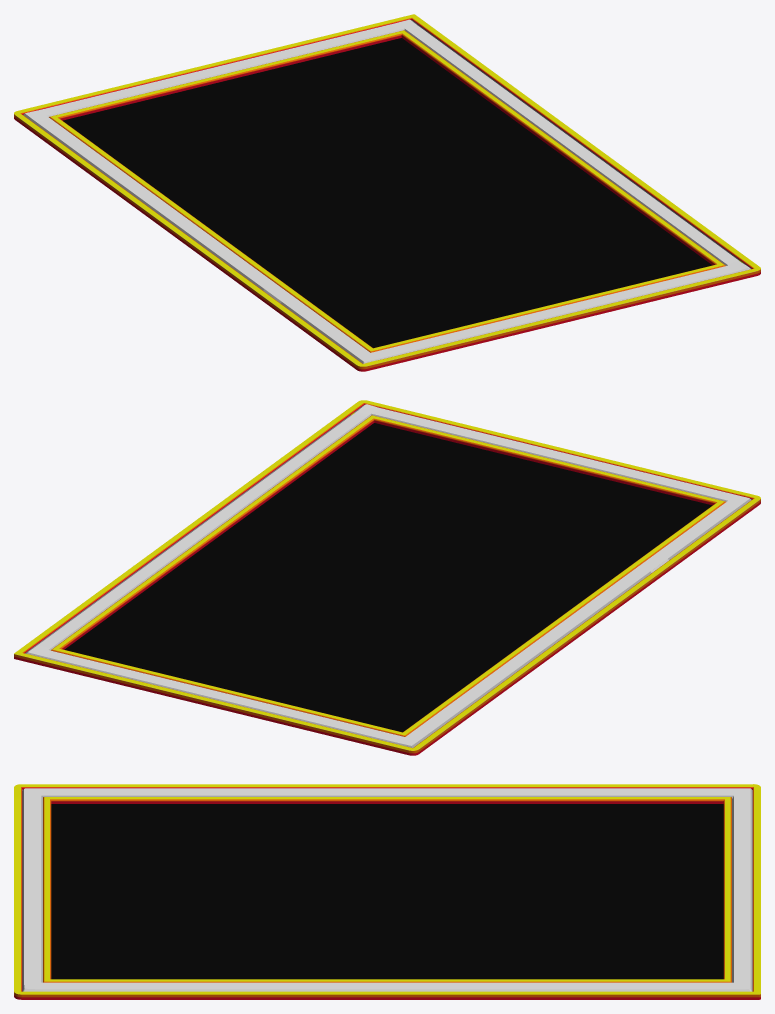
The model's file is game board v01.fbx.
3 renders of one model, top to bottom at view 1: azimuth 30°, elevation 25°; view 2: azimuth 150°, elevation 25°; view 3: azimuth 270°, elevation 25°, orthographic. The views are drawn at different scales.
Parts seen in each view (by area): view 1: pCube3; view 2: pCube3; view 3: pCube3.
Part boxes in pixels (bbox=[...]): pCube3: bbox=[14, 14, 760, 371]; pCube3: bbox=[14, 400, 760, 755]; pCube3: bbox=[14, 784, 760, 999].
Size of the model in its own units: 180 by 2.96 by 270.
